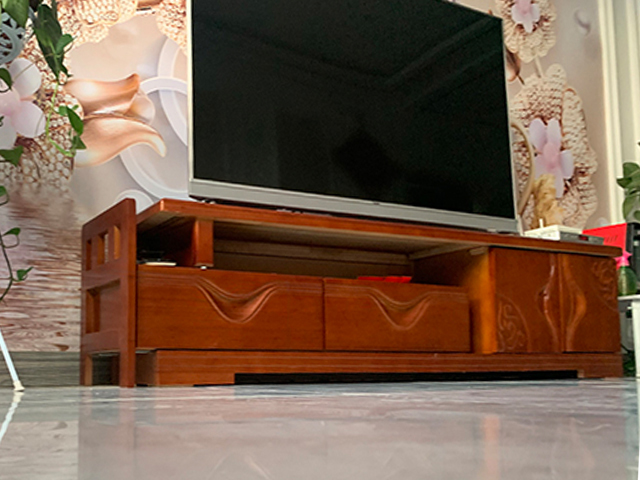cabinet: (79, 198, 625, 390)
